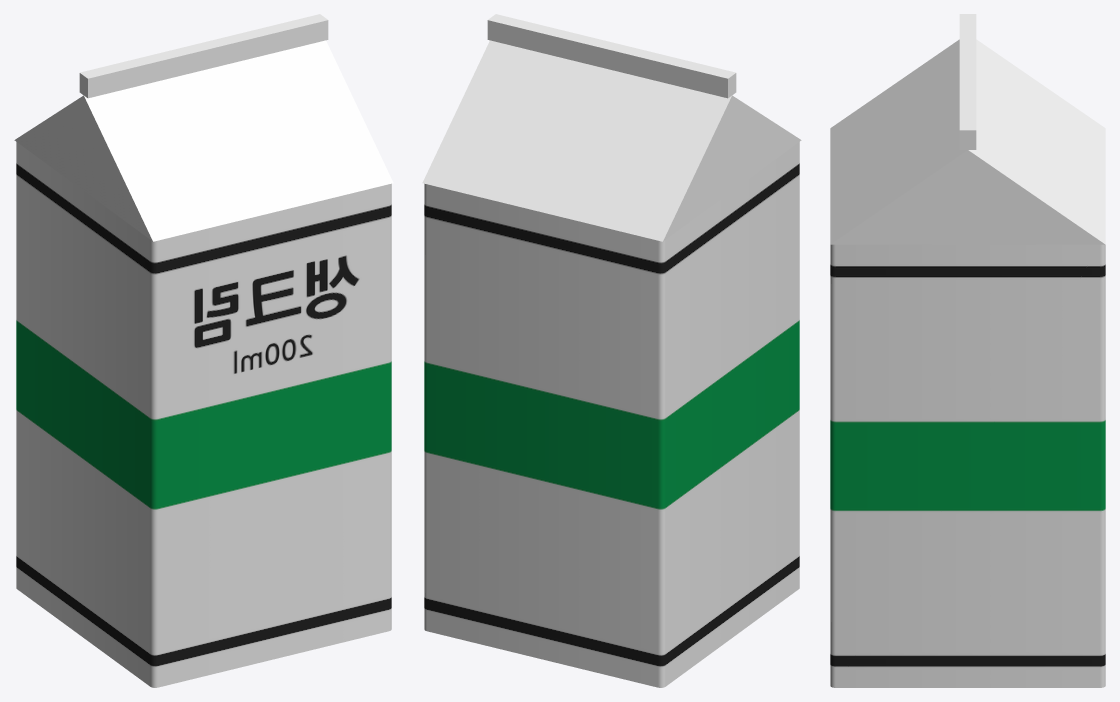
Rendered from item-cream_200.glb.
3 renders of one model, left to right at view 1: azimuth 30°, elevation 25°; view 2: azimuth 150°, elevation 25°; view 3: azimuth 270°, elevation 25°, orthographic.
Parts seen in each view (by area): view 1: body, roof, fin; view 2: body, roof, fin; view 3: body, roof, fin.
Boxes of the visible parts, bbox=[...] form: body: bbox=[16, 142, 391, 687]; roof: bbox=[14, 40, 393, 241]; fin: bbox=[79, 14, 328, 98]; body: bbox=[424, 142, 799, 687]; roof: bbox=[422, 40, 801, 241]; fin: bbox=[487, 14, 736, 98]; body: bbox=[830, 244, 1105, 687]; roof: bbox=[830, 39, 1105, 244]; fin: bbox=[959, 14, 976, 149].
Bounding box in the file's own units: 0.047 × 0.105 × 0.047.
3 materials, 1 textured.
